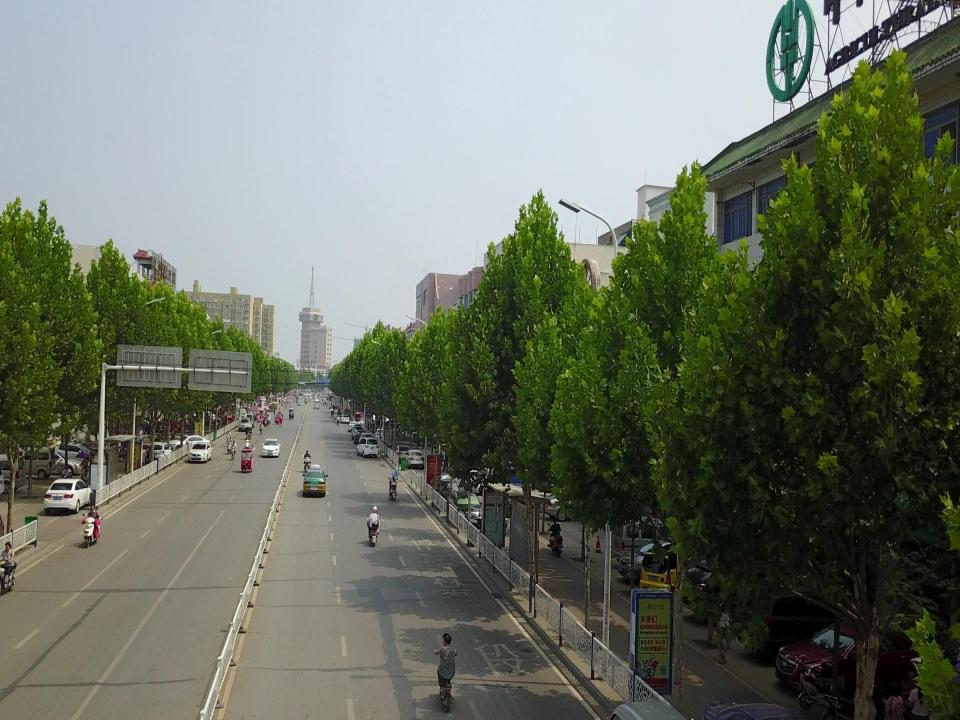car: (774, 620, 926, 692), (738, 591, 872, 665), (676, 560, 782, 622), (611, 514, 682, 568), (618, 535, 698, 582), (638, 544, 684, 592), (44, 477, 92, 515), (540, 491, 598, 521), (444, 490, 486, 529), (440, 468, 495, 495), (36, 449, 84, 475), (436, 478, 464, 511), (56, 442, 95, 464), (302, 464, 328, 496), (168, 434, 211, 452), (186, 441, 213, 463), (145, 442, 173, 463), (356, 436, 378, 460), (402, 449, 426, 469), (260, 437, 281, 457), (392, 444, 412, 463), (238, 417, 254, 431), (358, 433, 372, 447), (353, 430, 367, 442), (351, 425, 363, 439), (348, 421, 359, 431), (340, 414, 350, 423), (313, 402, 320, 409)
van: (6, 446, 58, 481)
